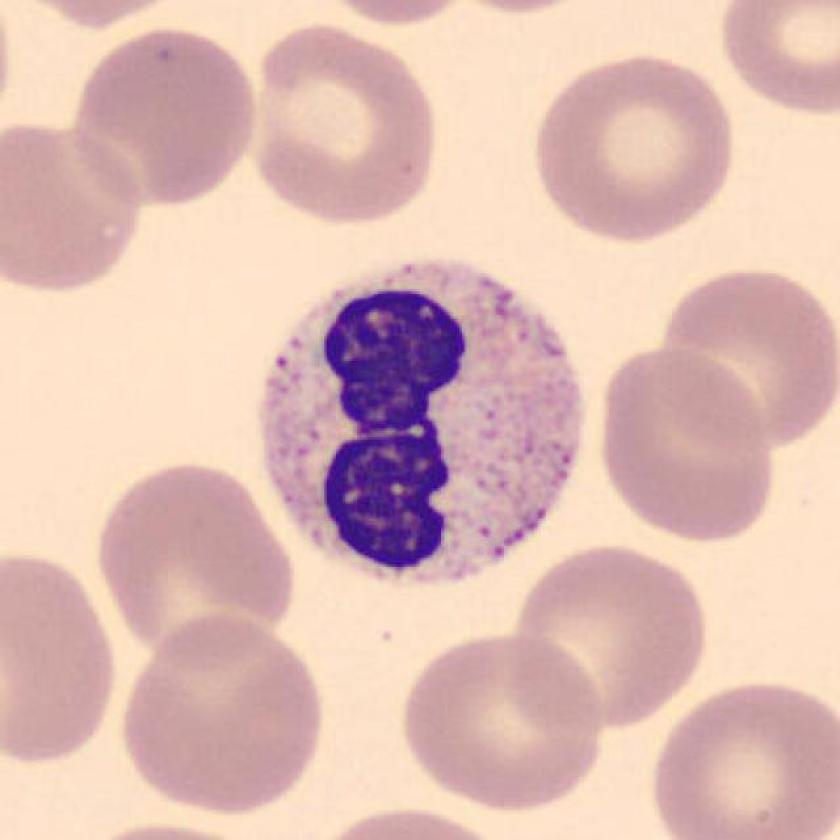neutrophil: (260, 257, 585, 580)
